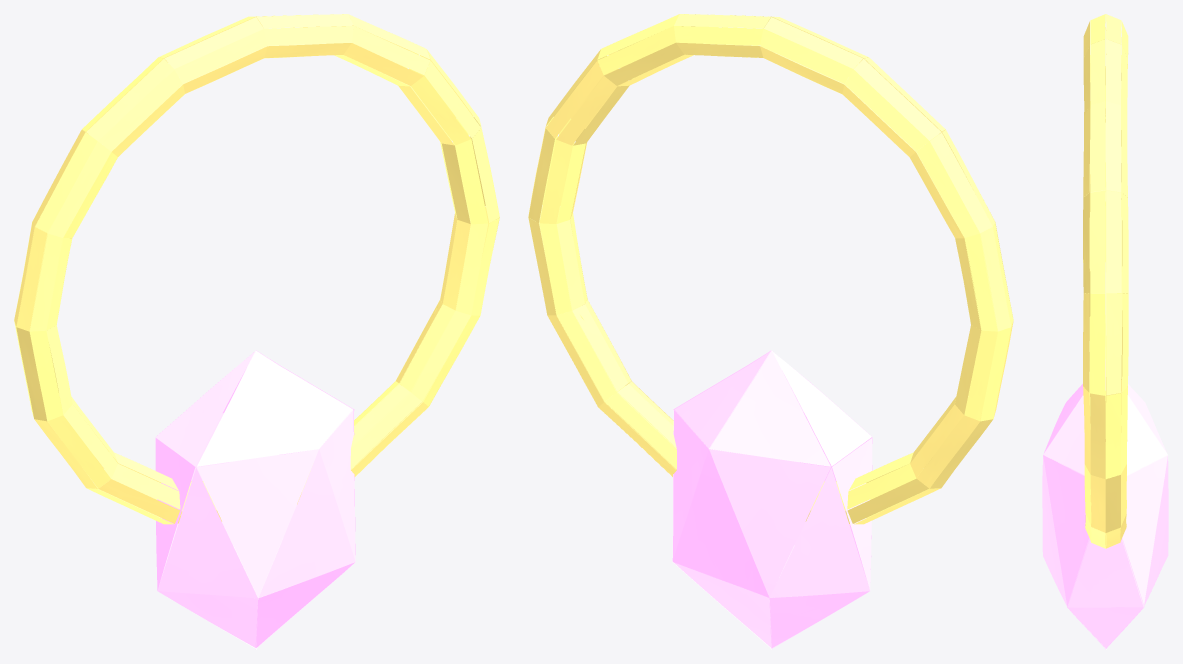
File: amulet.glb
3 views of the same model, side by side, from view 1: azimuth 30°, elevation 25°; view 2: azimuth 150°, elevation 25°; view 3: azimuth 270°, elevation 25° (orthographic). The views are drawn at different scales.
Parts seen in each view (by area): view 1: AmuletChain; view 2: AmuletChain; view 3: AmuletChain.
Boxes of the visible parts, x1,y1,x2,y2 form: AmuletChain: (14,14,499,649); AmuletChain: (528,14,1013,649); AmuletChain: (1042,14,1168,649).
Size of the model in its own units: 0.8708 by 1.1 by 0.2053.
